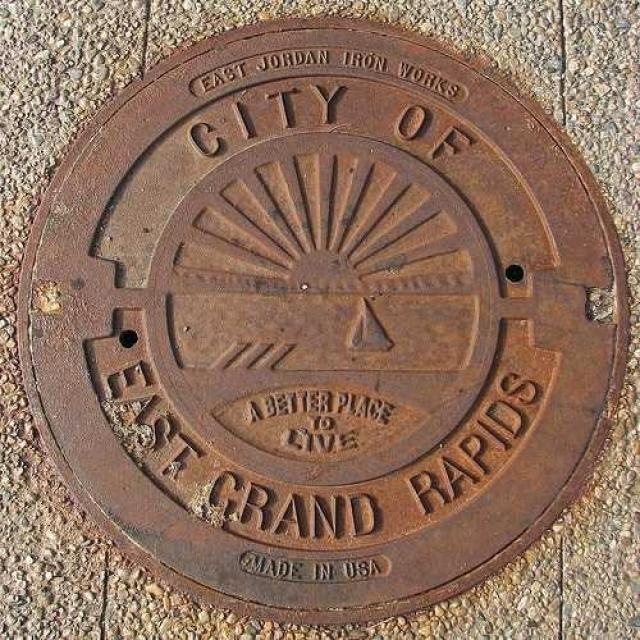manhole: (6, 18, 627, 623)
